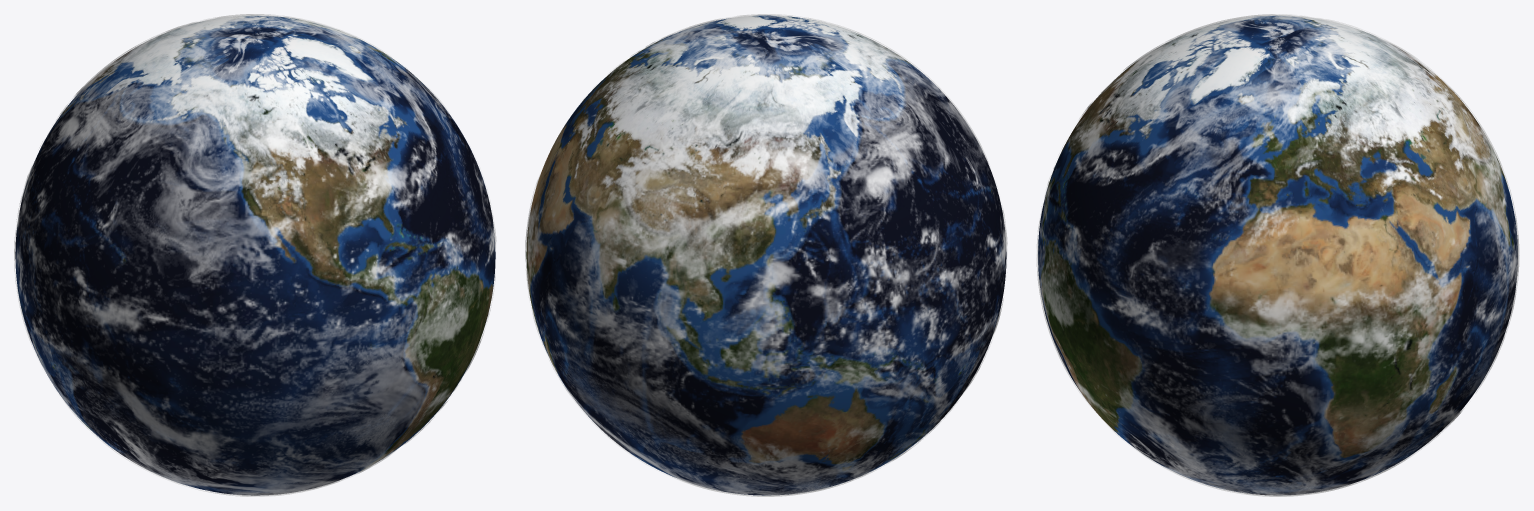
The model's file is earth.glb.
3 views of the same model, side by side, from view 1: azimuth 30°, elevation 25°; view 2: azimuth 150°, elevation 25°; view 3: azimuth 270°, elevation 25° (orthographic).
Visible parts, largest first — view 1: Earth, EarthClouds; view 2: Earth, EarthClouds; view 3: Earth, EarthClouds.
Boxes of the visible parts, <box> form: Earth: <box>15,15,495,495</box>; EarthClouds: <box>14,14,496,496</box>; Earth: <box>526,15,1006,495</box>; EarthClouds: <box>525,14,1007,496</box>; Earth: <box>1038,15,1517,495</box>; EarthClouds: <box>1036,14,1519,496</box>.
Bounding box in the file's own units: 2.01 × 2.01 × 2.01.
Materials: 2 (2 with a texture image).
